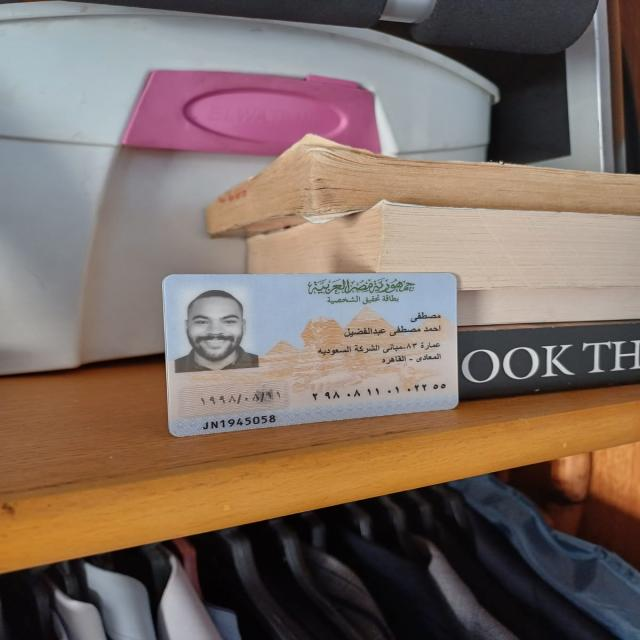ID-cards: (157, 268, 471, 448)
